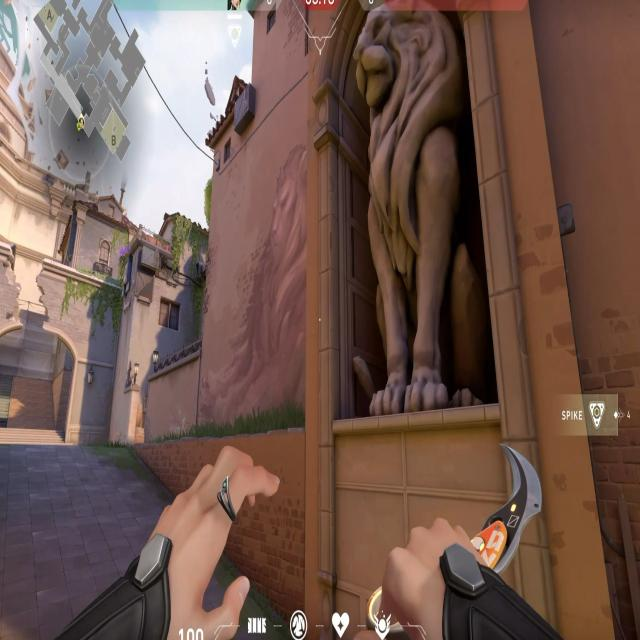Lion_Corner: (307, 19, 514, 454)
